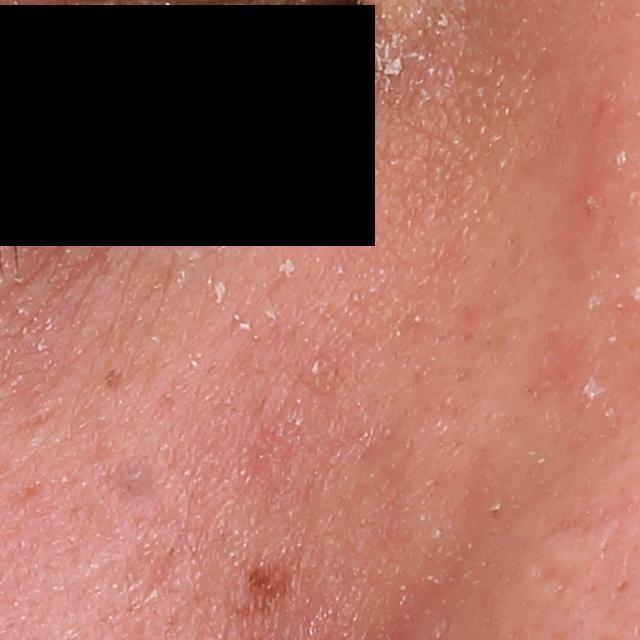melasma: (226, 560, 294, 637), (108, 452, 164, 502), (102, 369, 122, 397)
